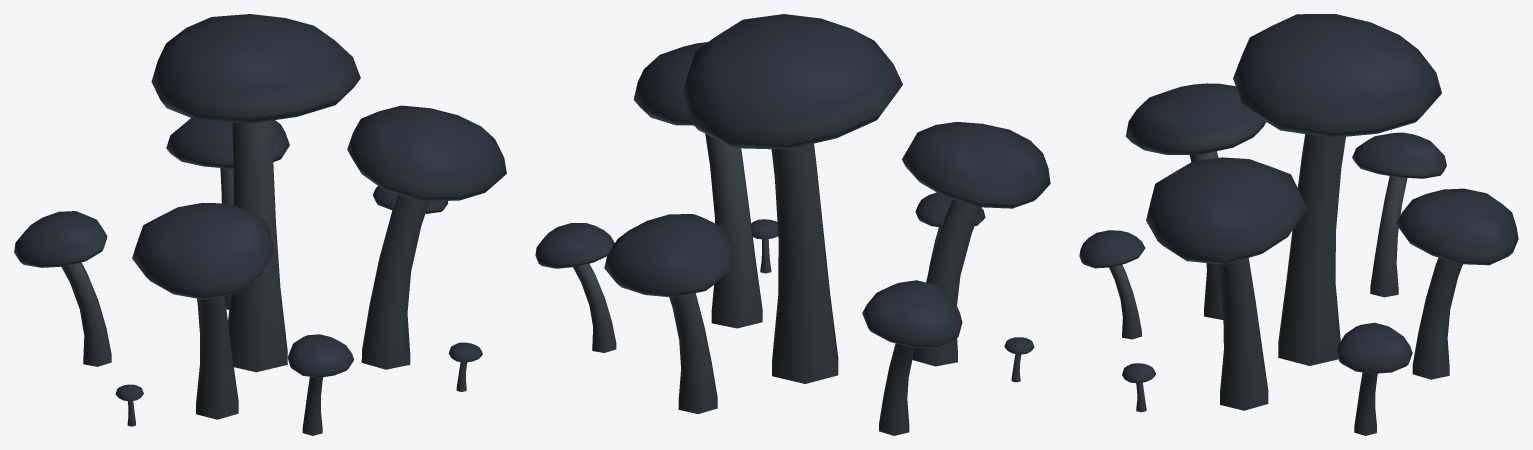
The model's file is mushrooms_lod0.glb.
3 views of the same model, side by side, from view 1: azimuth 30°, elevation 25°; view 2: azimuth 150°, elevation 25°; view 3: azimuth 270°, elevation 25° (orthographic). The views are drawn at different scales.
Visible parts, largest first — view 1: mushrooms_lod0; view 2: mushrooms_lod0; view 3: mushrooms_lod0.
Part boxes in pixels (x1,y1,x2,y2): mushrooms_lod0: (14, 14, 506, 435); mushrooms_lod0: (535, 14, 1050, 435); mushrooms_lod0: (1079, 14, 1518, 435).
Size of the model in its own units: 0.5036 by 0.3847 by 0.47.
